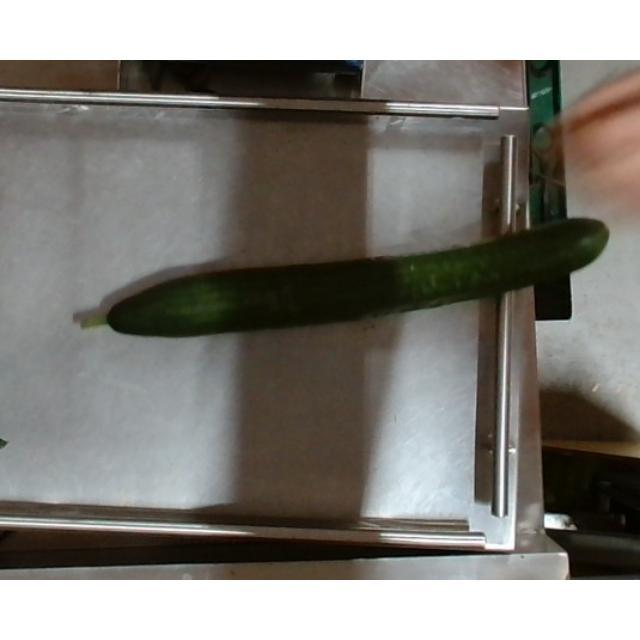cucumber: (78, 210, 610, 348)
